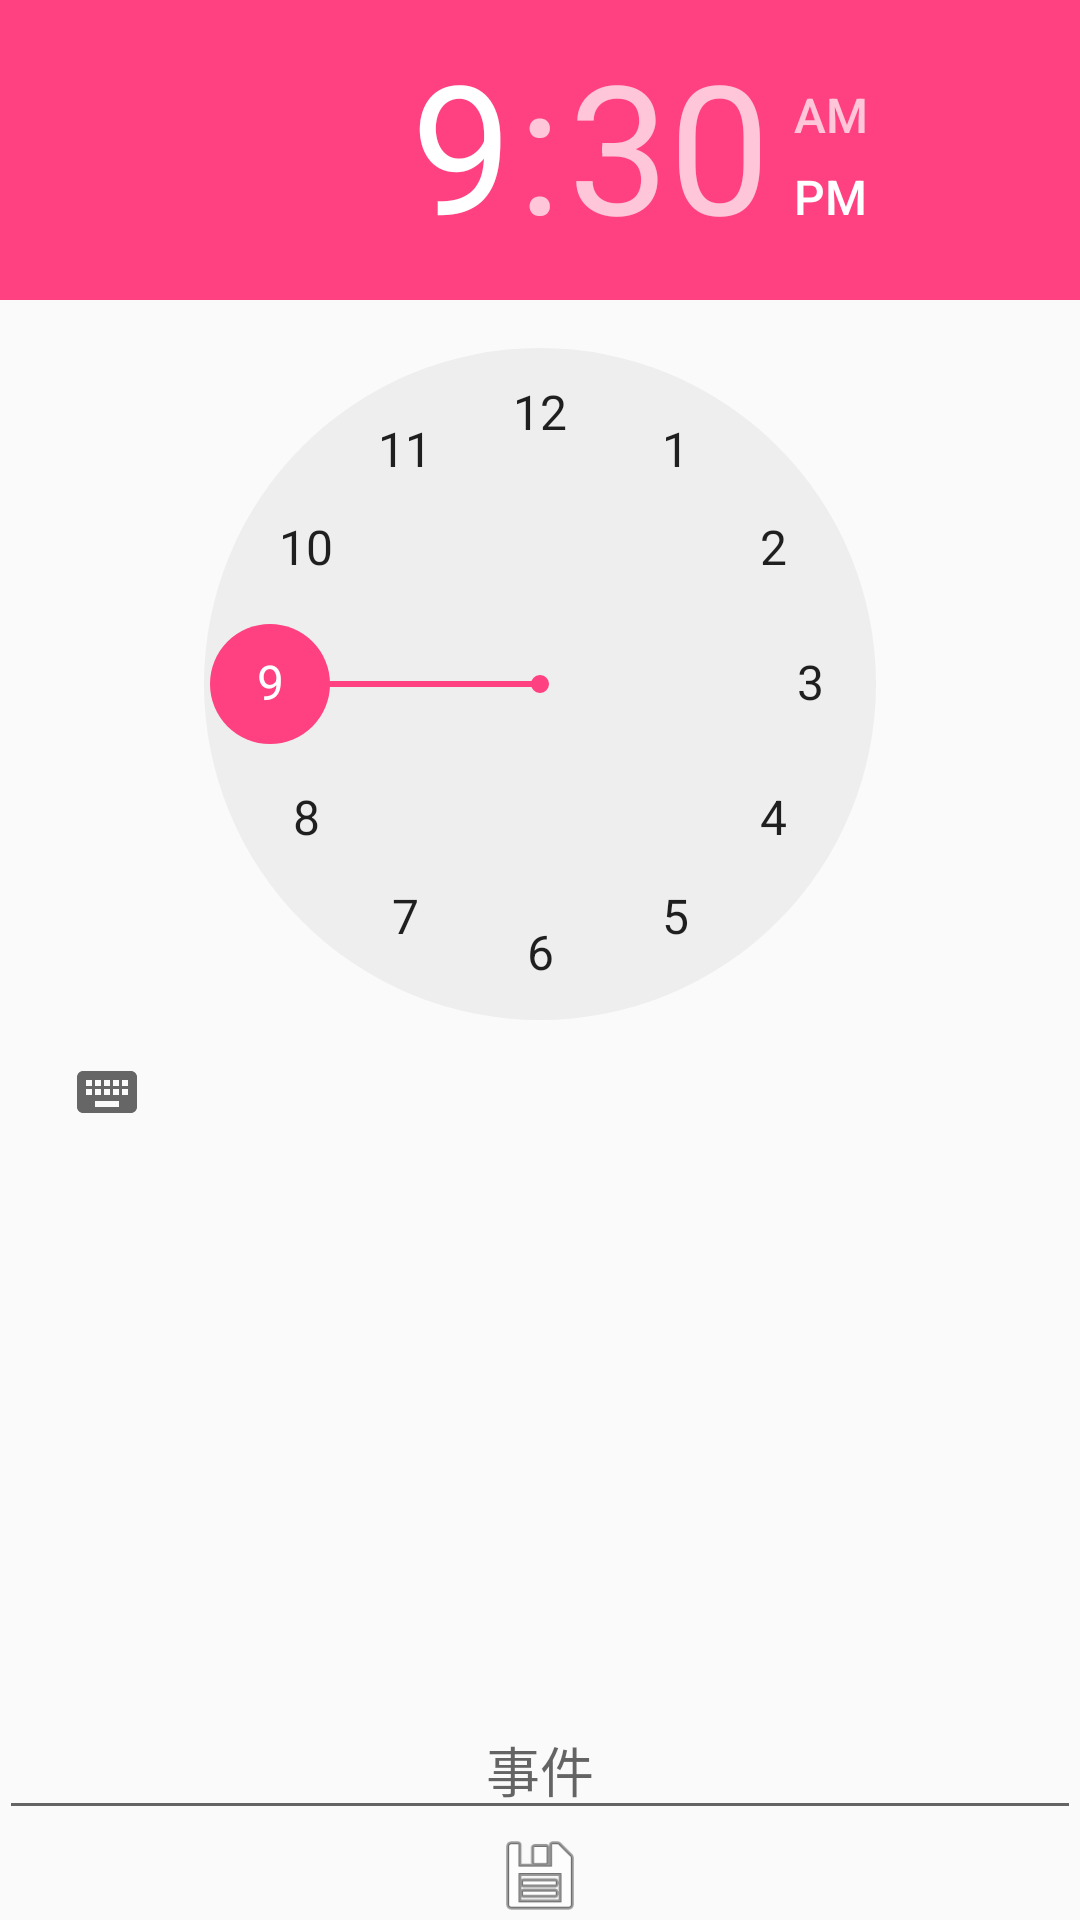

Locate icon controls on the screen. Image size 1080px x 1920px, boxes as [x1=x1, y1=y1, x2=x2, y2=y2].
save: [x1=506, y1=1841, x2=574, y2=1910]
